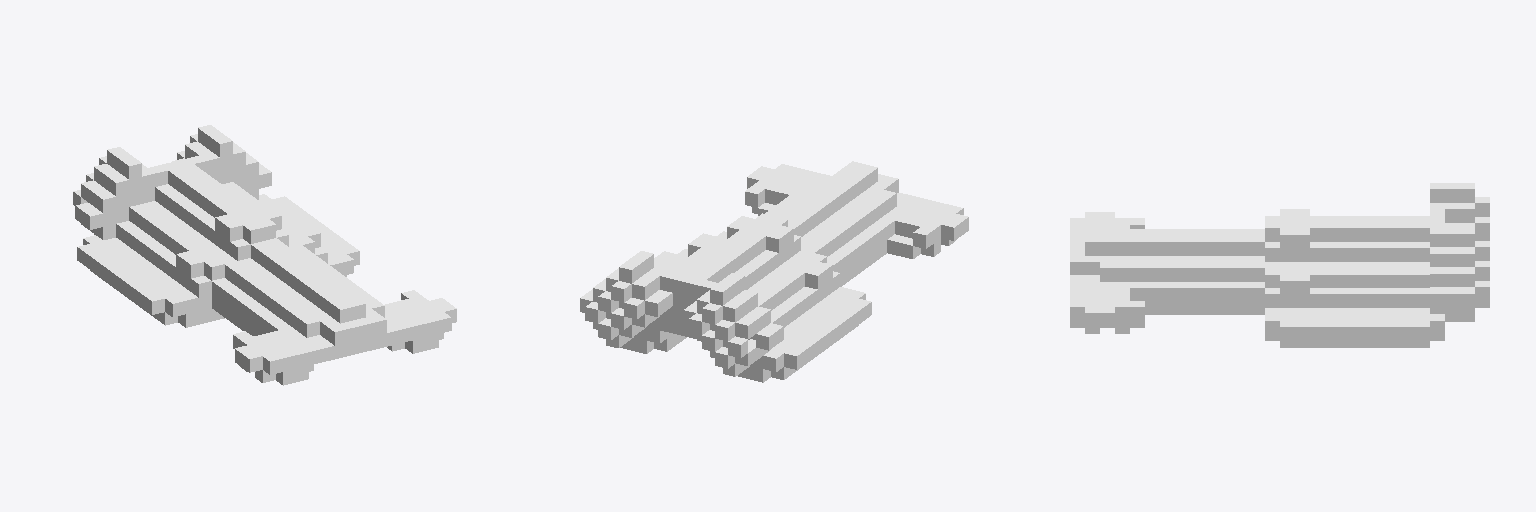
File: Deluge.obj
3 renders of one model, left to right at view 1: azimuth 30°, elevation 25°; view 2: azimuth 150°, elevation 25°; view 3: azimuth 270°, elevation 25°, orthographic.
Visible parts, largest first — view 1: object 1; view 2: object 1; view 3: object 1.
Part boxes in pixels (x1,y1,x2,y2): object 1: (73, 125, 456, 385); object 1: (580, 161, 968, 382); object 1: (1070, 183, 1489, 347).
Size of the model in its own units: 1.6 by 0.7 by 2.8.